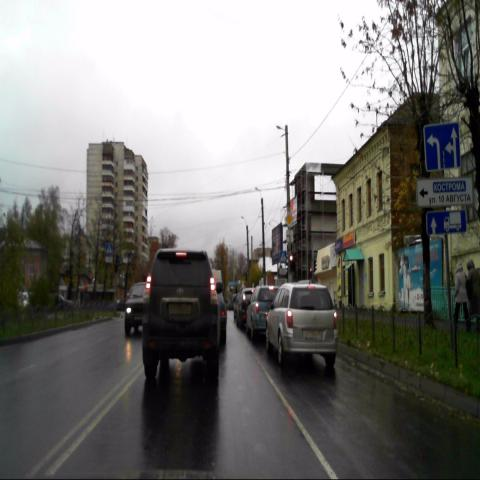6_15_1: (426, 210, 467, 236)
